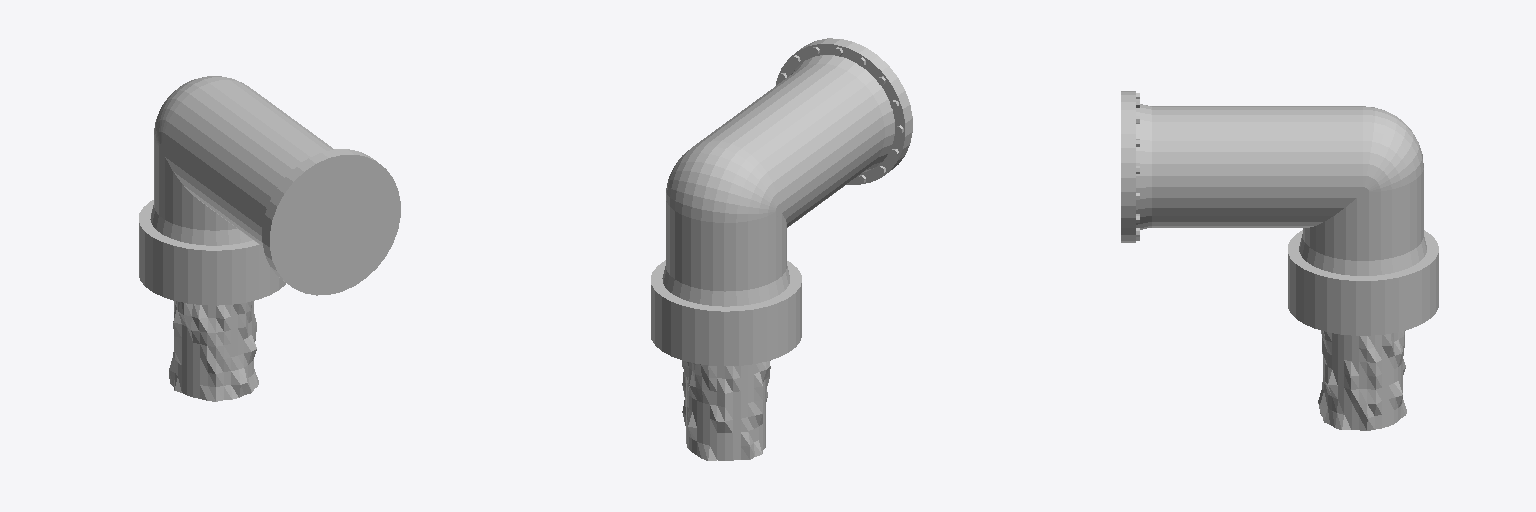
Rendered from pipeworks_spigot_pouring.obj.
3 renders of one model, left to right at view 1: azimuth 30°, elevation 25°; view 2: azimuth 150°, elevation 25°; view 3: azimuth 270°, elevation 25°, orthographic.
Visible parts, largest first — view 1: Pipe_Cylinder.002; view 2: Pipe_Cylinder.002; view 3: Pipe_Cylinder.002.
Boxes of the visible parts, box(x1,y1,x2,y2) form: Pipe_Cylinder.002: box(139, 76, 400, 401); Pipe_Cylinder.002: box(651, 38, 912, 460); Pipe_Cylinder.002: box(1121, 91, 1438, 430).
Size of the model in its own units: 0.3125 by 0.7188 by 0.6562.